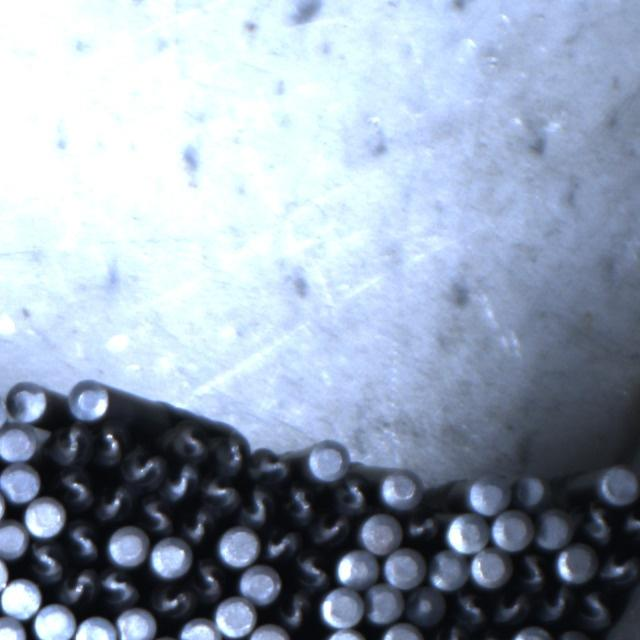tool: (69, 376, 112, 419), (377, 466, 421, 508), (466, 472, 510, 514), (321, 586, 364, 628), (358, 511, 402, 552), (492, 508, 534, 550), (215, 594, 257, 636), (306, 438, 348, 480), (151, 536, 193, 578), (444, 511, 487, 552), (23, 497, 66, 538), (382, 547, 424, 588), (597, 465, 640, 505), (109, 525, 150, 566), (218, 526, 260, 566), (336, 548, 378, 588), (238, 562, 280, 602), (0, 577, 40, 618), (470, 546, 511, 586), (555, 542, 596, 582), (427, 549, 468, 589), (1, 462, 41, 502), (33, 603, 76, 640), (535, 507, 573, 548), (364, 584, 404, 622), (406, 587, 444, 624), (115, 606, 156, 640), (0, 426, 37, 461), (514, 474, 548, 508), (76, 614, 119, 640), (0, 519, 28, 557), (177, 616, 218, 640), (378, 622, 422, 640), (248, 623, 291, 640), (507, 625, 553, 640), (0, 616, 26, 640), (324, 629, 368, 640), (0, 554, 9, 593)
tool_b: (46, 424, 92, 467), (6, 379, 48, 424), (575, 586, 616, 628), (95, 567, 138, 607), (64, 518, 103, 562), (199, 471, 240, 512), (122, 447, 164, 486), (26, 540, 64, 583), (210, 427, 248, 470), (577, 504, 615, 546), (93, 483, 132, 523), (193, 558, 230, 600), (57, 468, 94, 510), (308, 512, 351, 548), (58, 567, 97, 606), (294, 550, 332, 590), (174, 420, 212, 460), (137, 493, 174, 534), (596, 549, 638, 585), (280, 482, 316, 524), (250, 446, 292, 482), (512, 550, 550, 589), (336, 476, 375, 514), (278, 592, 316, 631), (534, 584, 573, 622), (451, 589, 488, 628), (240, 484, 276, 524), (161, 462, 197, 501), (155, 585, 195, 619), (492, 590, 532, 624), (94, 424, 125, 465), (261, 528, 299, 561), (180, 507, 214, 543), (404, 511, 441, 543), (620, 504, 640, 545)
